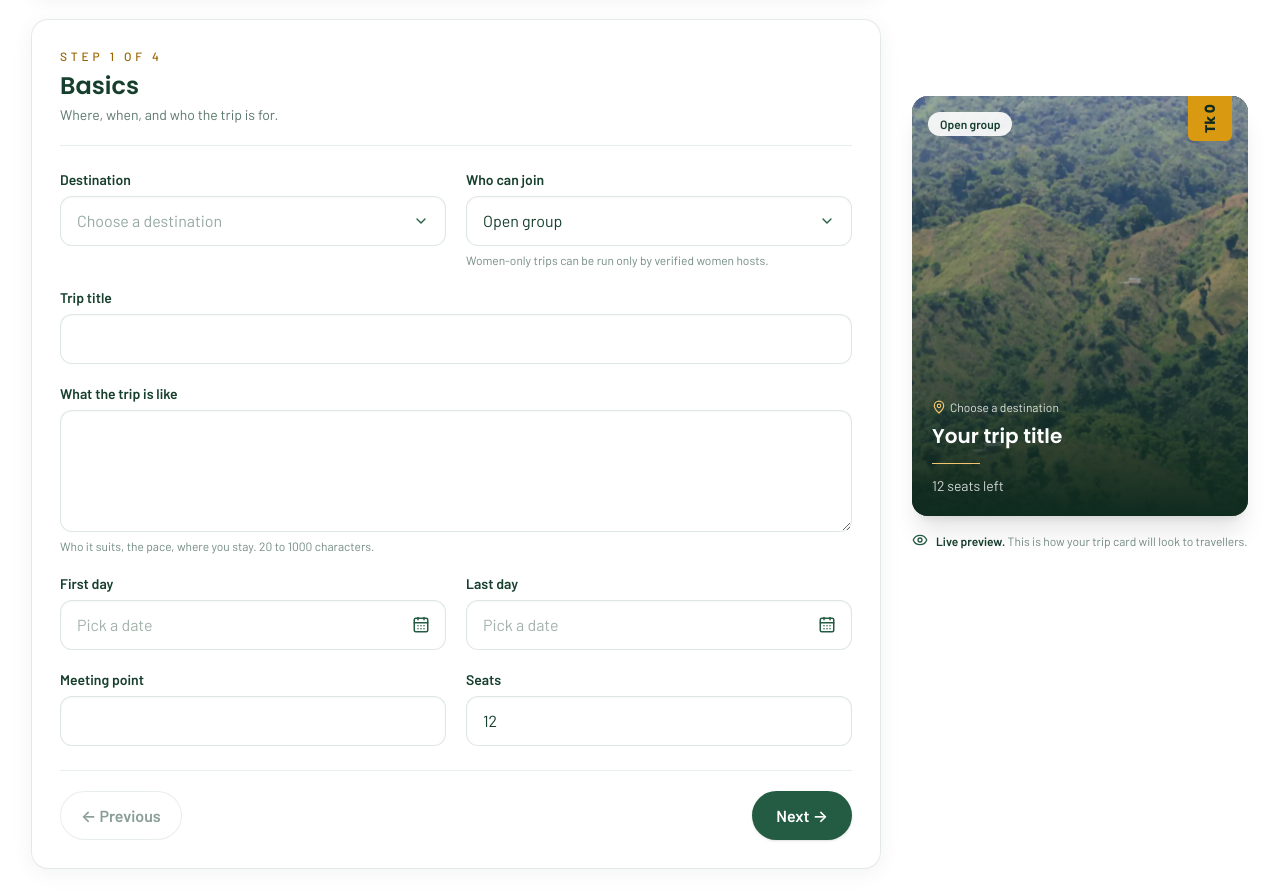
Scenario: TripWizardPage › will not leave the basics step until the required fields are filled
(page scrolled)
Click the button "Next →" at (802, 815), box [752,791,852,840]
(page scrolled)
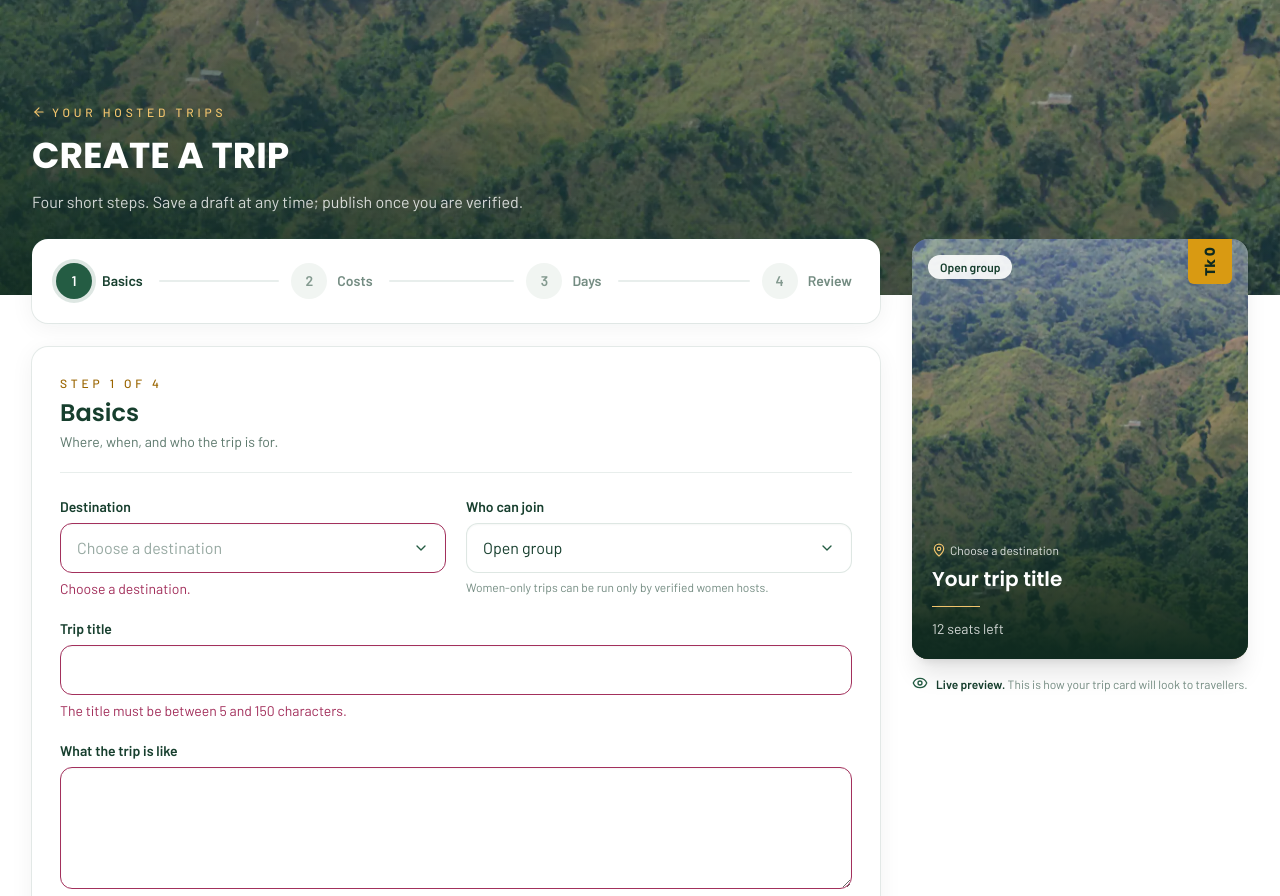
expect the text "Choose a destination." is shown: met, box [60,580,191,597]
